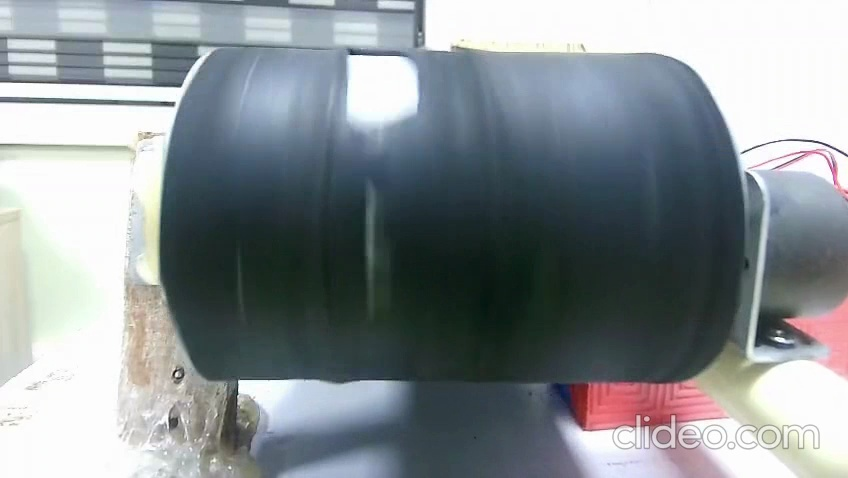hole: (332, 41, 429, 137)
tear: (360, 180, 391, 328)
